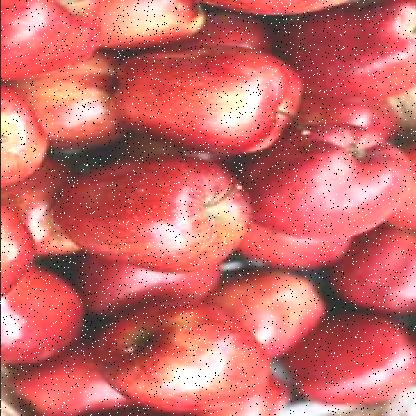apple: (84, 154, 246, 264), (127, 43, 289, 152), (262, 113, 400, 230), (107, 300, 252, 402), (18, 48, 125, 154), (296, 0, 412, 88), (296, 318, 412, 405), (211, 280, 328, 351), (6, 269, 86, 363), (2, 8, 102, 80), (2, 83, 59, 183)
